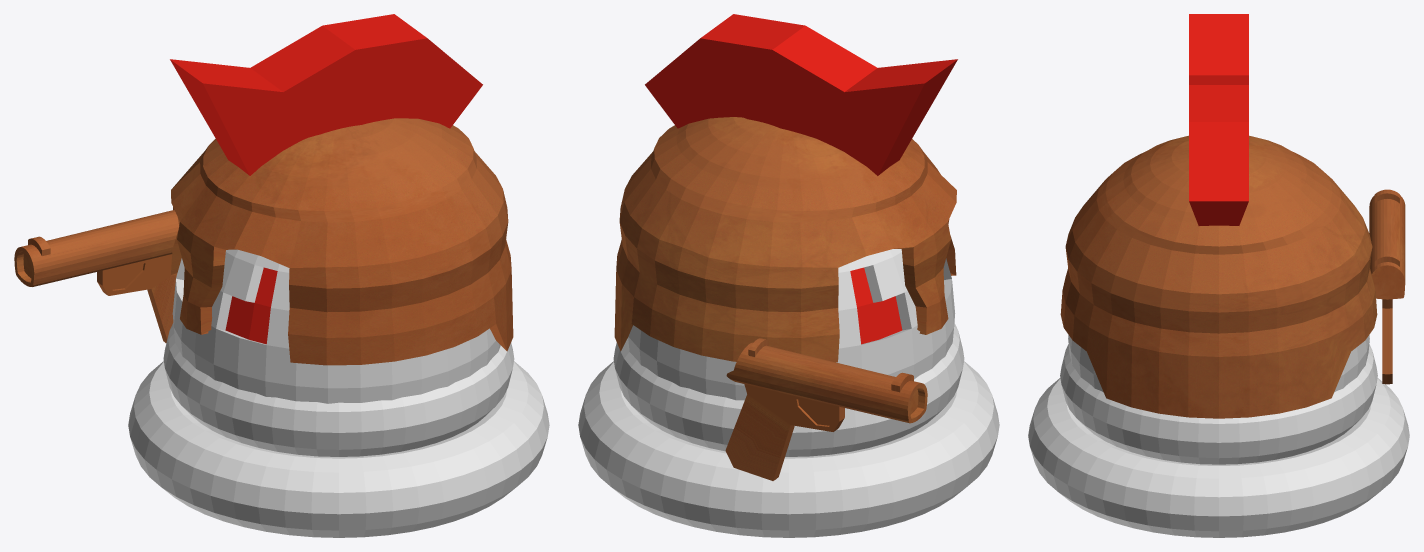
Rendered from RobotEnemy.fbx.
The picture shows the model from 3 angles, left to right: view 1: azimuth 30°, elevation 25°; view 2: azimuth 150°, elevation 25°; view 3: azimuth 270°, elevation 25°; orthographic projection. The views are drawn at different scales.
Parts seen in each view (by area): view 1: Sphere.001, Torus, Cube, Torus.001, Sphere, Cylinder, Sphere.002; view 2: Sphere.001, Torus, Cube, Cylinder, Sphere, Torus.001, Sphere.002; view 3: Sphere.001, Torus, Torus.001, Cube, Cylinder, Sphere.
Part boxes in pixels (<box>): Sphere.001: <box>171,118,513,365</box>; Torus: <box>128,361,549,537</box>; Cube: <box>170,14,482,175</box>; Torus.001: <box>163,323,514,456</box>; Sphere: <box>172,249,500,403</box>; Cylinder: <box>14,207,179,342</box>; Sphere.002: <box>225,267,277,344</box>; Sphere.001: <box>614,117,956,362</box>; Torus: <box>578,361,999,537</box>; Cube: <box>645,14,957,175</box>; Cylinder: <box>725,338,927,480</box>; Sphere: <box>626,249,955,400</box>; Torus.001: <box>613,323,964,456</box>; Sphere.002: <box>850,267,902,344</box>; Sphere.001: <box>1060,135,1377,418</box>; Torus: <box>1028,378,1409,537</box>; Torus.001: <box>1060,344,1377,464</box>; Cube: <box>1189,14,1248,225</box>; Cylinder: <box>1369,189,1405,384</box>; Sphere: <box>1068,335,1369,392</box>.
Bounding box in the file's own units: 280 × 307 × 253.
